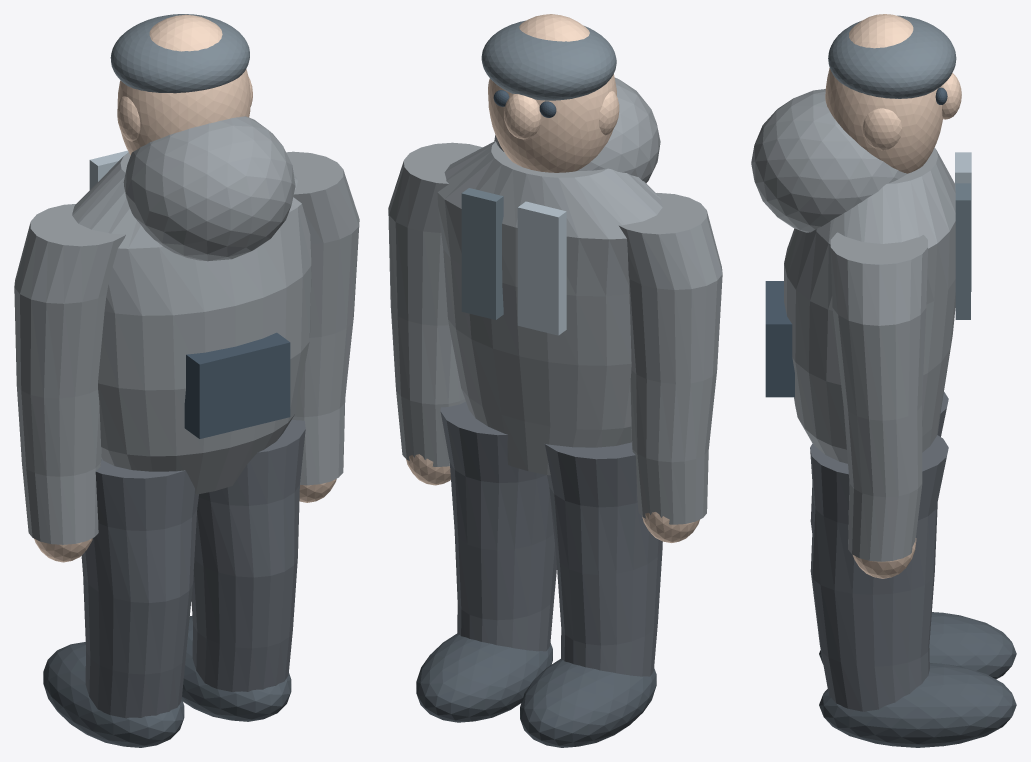
File: pedestrian_2.glb
The picture shows the model from 3 angles, left to right: view 1: azimuth 30°, elevation 25°; view 2: azimuth 150°, elevation 25°; view 3: azimuth 270°, elevation 25°; orthographic projection. The views are drawn at different scales.
Parts seen in each view (by area): view 1: tailored-torso, arm_L, leg_L, leg_R, fabricgray, arm_R, rubber, skin3, dark, charcoal, alum; view 2: tailored-torso, arm_L, leg_L, leg_R, arm_R, rubber, skin3, charcoal, alum, frame, fabricgray; view 3: arm_R, tailored-torso, leg_R, rubber, fabricgray, skin3, charcoal, dark, frame, alum.
Boxes of the visible parts, x1,y1,x2,y2 form: tailored-torso: [72, 152, 311, 494]; arm_L: [14, 204, 125, 544]; leg_L: [81, 459, 198, 718]; leg_R: [191, 420, 305, 691]; fabricgray: [123, 116, 295, 261]; arm_R: [286, 151, 359, 485]; rubber: [43, 616, 291, 747]; skin3: [34, 14, 336, 562]; dark: [184, 332, 290, 438]; charcoal: [110, 14, 249, 93]; alum: [89, 150, 128, 189]; tailored-torso: [437, 141, 662, 475]; arm_L: [618, 193, 722, 524]; leg_L: [545, 442, 662, 676]; leg_R: [440, 401, 556, 651]; arm_R: [388, 142, 482, 466]; rubber: [416, 633, 656, 747]; skin3: [406, 14, 699, 542]; charcoal: [481, 20, 616, 100]; alum: [517, 201, 566, 335]; frame: [461, 188, 503, 319]; fabricgray: [494, 77, 660, 183]; arm_R: [830, 232, 927, 561]; tailored-torso: [784, 147, 955, 463]; leg_R: [810, 435, 948, 711]; rubber: [819, 612, 1016, 747]; fabricgray: [751, 89, 906, 232]; skin3: [825, 14, 961, 578]; charcoal: [828, 15, 956, 98]; dark: [765, 87, 947, 397]; frame: [955, 183, 970, 319]; alum: [955, 152, 971, 291].
Size of the model in its own units: 1.03 by 2.1 by 0.725.
